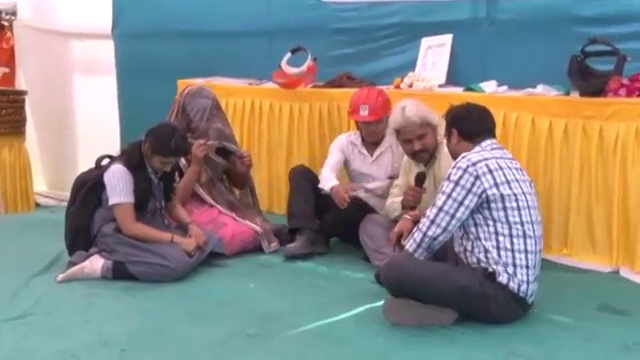helmet: (344, 89, 393, 128)
helmet_off: (439, 102, 504, 165), (173, 85, 227, 158), (391, 98, 441, 168), (134, 121, 191, 179)
helmet_on: (344, 88, 392, 151)
person: (357, 93, 542, 314), (57, 118, 206, 284), (274, 92, 403, 252), (159, 80, 268, 255), (352, 96, 453, 266)
